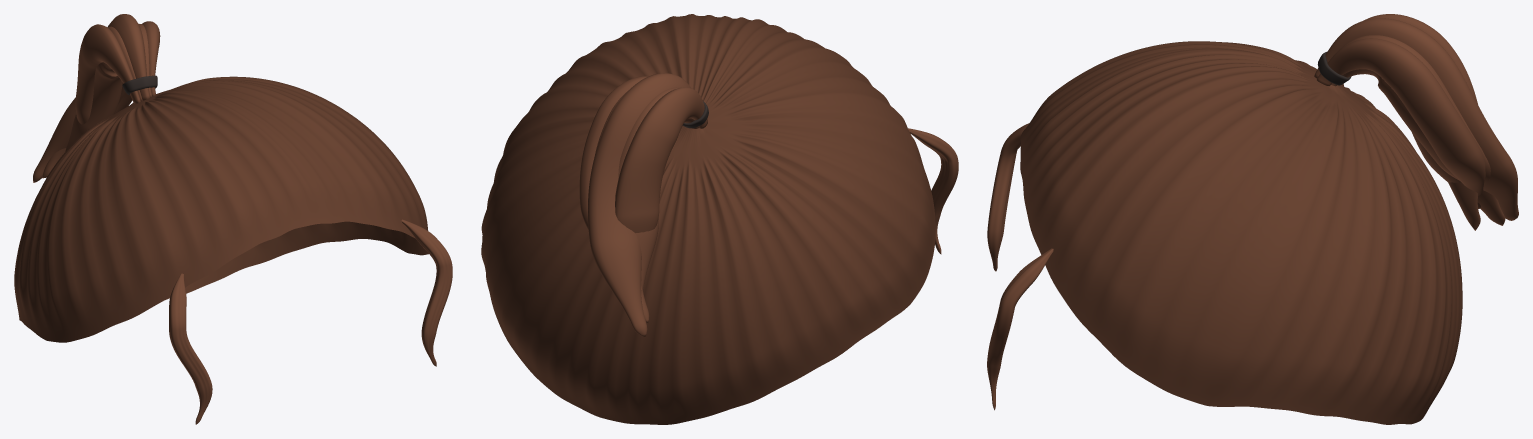
File: ponytail-none-default.glb
The picture shows the model from 3 angles, left to right: view 1: azimuth 30°, elevation 25°; view 2: azimuth 150°, elevation 25°; view 3: azimuth 270°, elevation 25°; orthographic projection. The views are drawn at different scales.
Parts seen in each view (by area): view 1: Hair / swept roots220, Hair / rounded tail220 0, Hair / rounded tail220 2, Hair / adjustable front216 1, Hair / adjustable front216 -1, Hair / rounded tail220 1, Hair / rounded tail220 3, Hair / rounded tail220 4, Hair / tie220; view 2: Hair / swept roots220, Hair / rounded tail220 2, Hair / rounded tail220 0, Hair / rounded tail220 4, Hair / adjustable front216 -1, Hair / rounded tail220 1; view 3: Hair / swept roots220, Hair / rounded tail220 4, Hair / rounded tail220 2, Hair / adjustable front216 1, Hair / adjustable front216 -1, Hair / rounded tail220 3, Hair / rounded tail220 0, Hair / rounded tail220 1.
Part boxes in pixels (box(x1,y1,x2,y2)): Hair / swept roots220: box(14, 76, 428, 342); Hair / rounded tail220 0: box(75, 24, 140, 124); Hair / rounded tail220 2: box(33, 14, 150, 182); Hair / adjustable front216 1: box(401, 219, 452, 366); Hair / adjustable front216 -1: box(169, 273, 212, 424); Hair / rounded tail220 1: box(65, 26, 142, 151); Hair / rounded tail220 3: box(42, 23, 152, 178); Hair / rounded tail220 4: box(126, 21, 160, 107); Hair / tie220: box(122, 75, 157, 94); Hair / swept roots220: box(481, 14, 935, 424); Hair / rounded tail220 2: box(588, 73, 690, 337); Hair / rounded tail220 0: box(615, 87, 707, 233); Hair / rounded tail220 4: box(579, 76, 648, 230); Hair / adjustable front216 -1: box(908, 128, 958, 254); Hair / rounded tail220 1: box(618, 87, 698, 289); Hair / swept roots220: box(1020, 41, 1462, 424); Hair / rounded tail220 4: box(1316, 38, 1485, 208); Hair / rounded tail220 2: box(1314, 18, 1518, 220); Hair / adjustable front216 1: box(987, 248, 1053, 410); Hair / adjustable front216 -1: box(987, 123, 1029, 271); Hair / rounded tail220 3: box(1331, 35, 1490, 184); Hair / rounded tail220 0: box(1363, 14, 1480, 230); Hair / rounded tail220 1: box(1412, 132, 1505, 225).
Bounding box in the file's own units: 0.7727 × 0.6271 × 0.8239.
